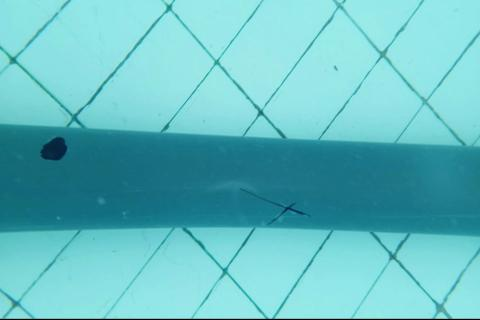kebocoran: (41, 135, 68, 161)
keretakan: (238, 185, 311, 225)
